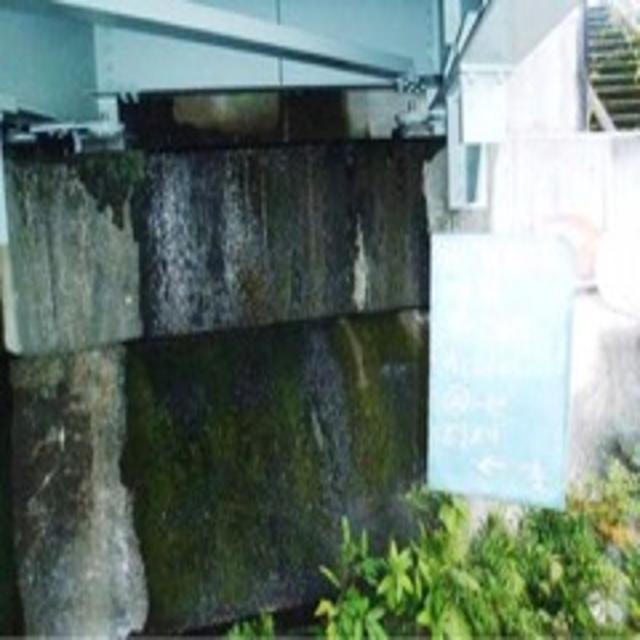leakage: (69, 91, 430, 610)
